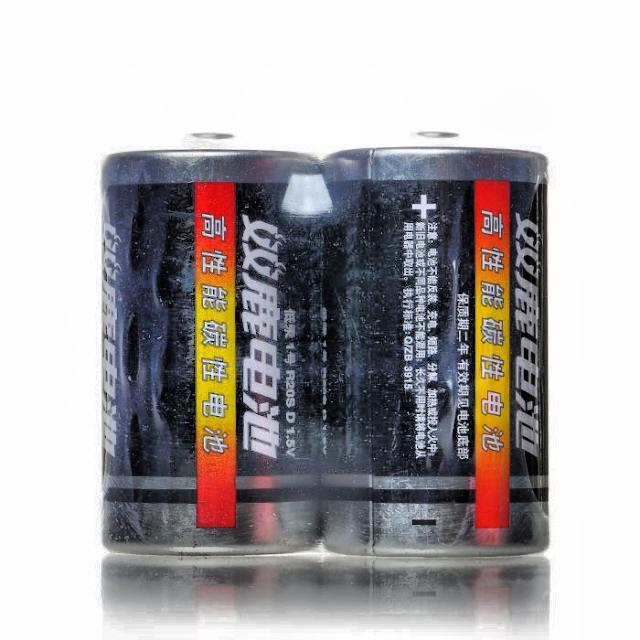Non-Valuable Waste - Batteries: (322, 148, 549, 555), (102, 151, 329, 552)
